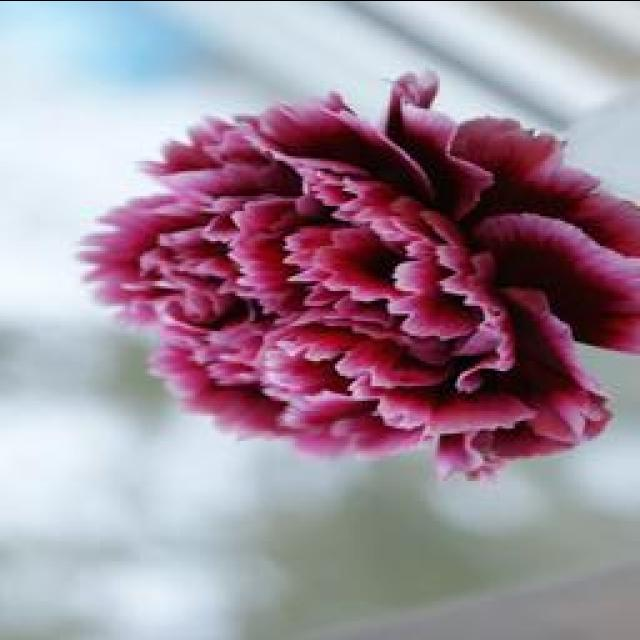carnation: (87, 51, 640, 480)
